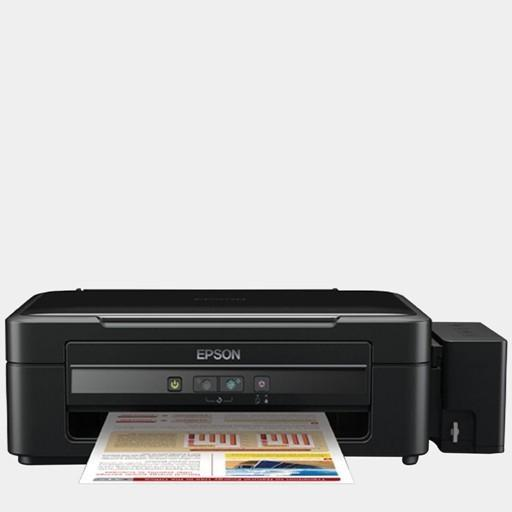Printer: (4, 288, 507, 483)
